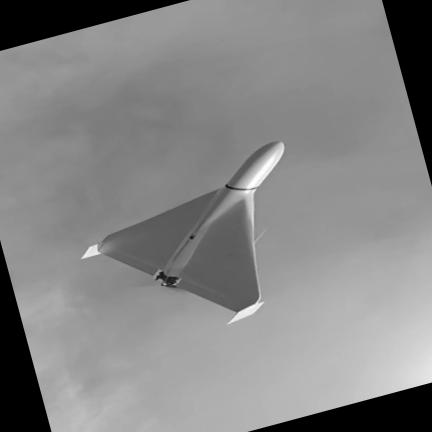Shahed: (81, 142, 284, 324)
